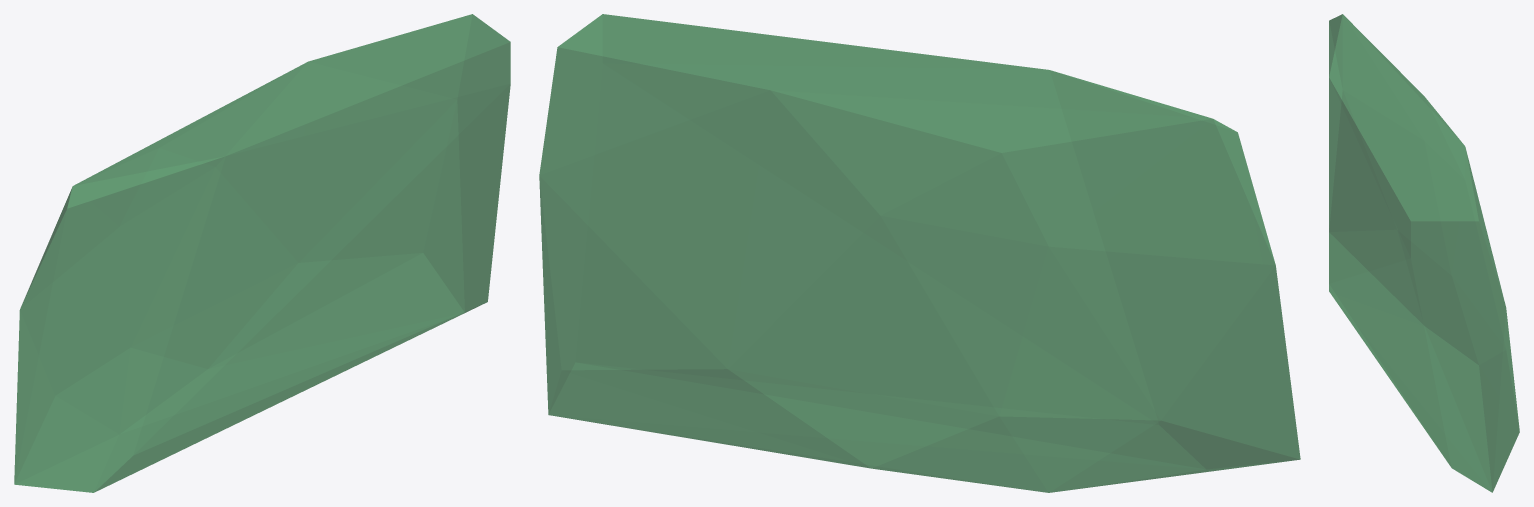
3 views of the same model, side by side, from view 1: azimuth 30°, elevation 25°; view 2: azimuth 150°, elevation 25°; view 3: azimuth 270°, elevation 25° (orthographic). The views are drawn at different scales.
Parts seen in each view (by area): view 1: Shape_IndexedFaceSet.008_Shape_IndexedFaceSet.17583; view 2: Shape_IndexedFaceSet.008_Shape_IndexedFaceSet.17583; view 3: Shape_IndexedFaceSet.008_Shape_IndexedFaceSet.17583.
Part boxes in pixels (x1,y1,x2,y2): Shape_IndexedFaceSet.008_Shape_IndexedFaceSet.17583: (14,14,510,492); Shape_IndexedFaceSet.008_Shape_IndexedFaceSet.17583: (539,14,1300,492); Shape_IndexedFaceSet.008_Shape_IndexedFaceSet.17583: (1329,14,1519,492).
Bounding box in the file's own units: 0.0723 × 0.0388 × 0.0247.
